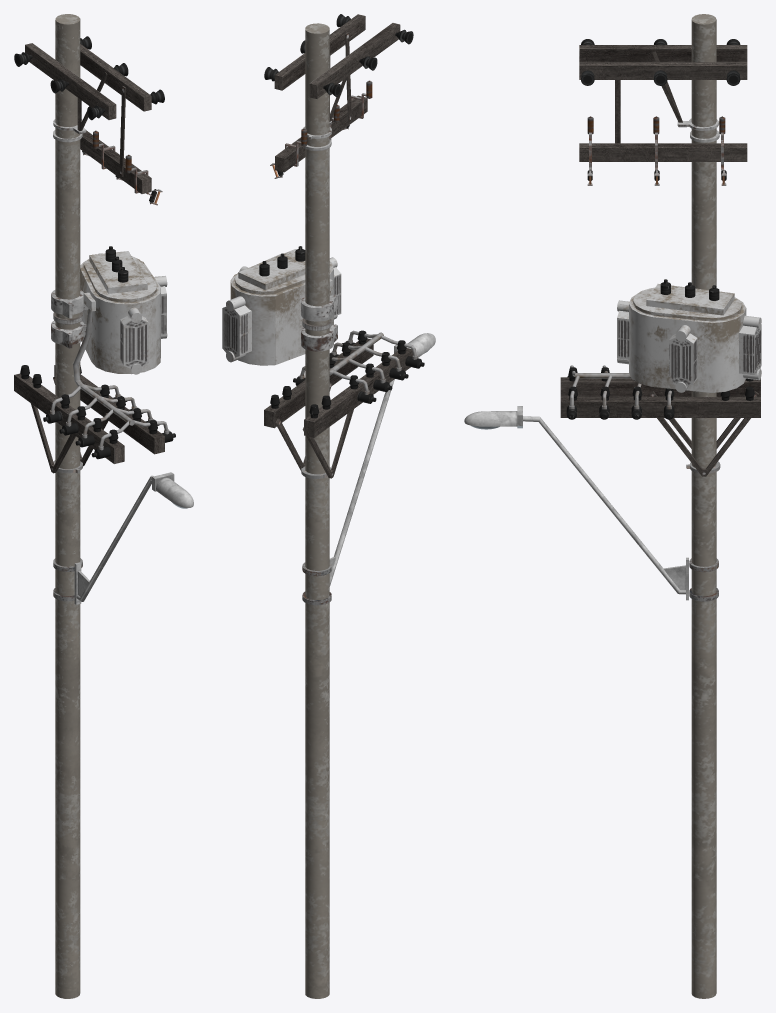
File: PowerPole.fbx
3 views of the same model, side by side, from view 1: azimuth 30°, elevation 25°; view 2: azimuth 150°, elevation 25°; view 3: azimuth 270°, elevation 25° (orthographic).
Visible parts, largest first — view 1: PowerPole; view 2: PowerPole; view 3: PowerPole.
Boxes of the visible parts, x1,y1,x2,y2 form: PowerPole: (14,14,193,998); PowerPole: (222,14,435,998); PowerPole: (464,14,761,998).
Bounding box in the file's own units: 140 × 1010 × 279.
1 material, 1 textured.
